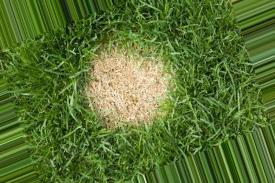patch: (98, 61, 164, 122)
